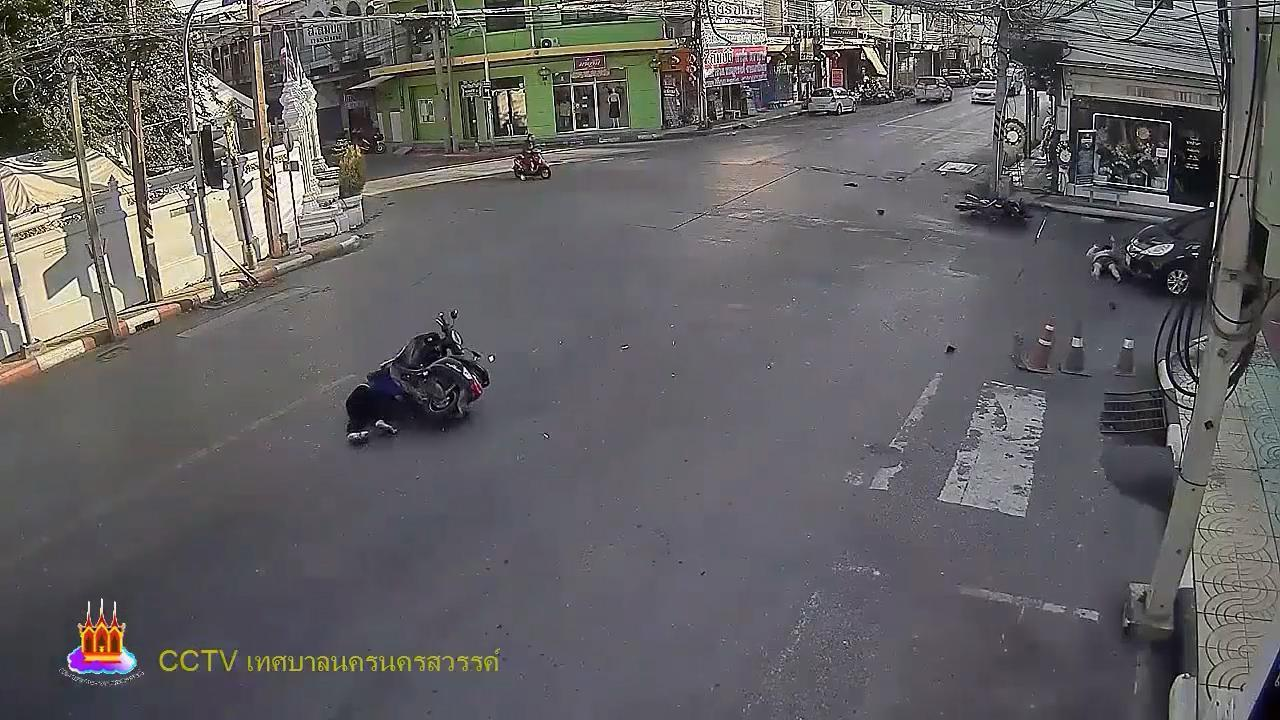accident: (1083, 229, 1123, 286)
